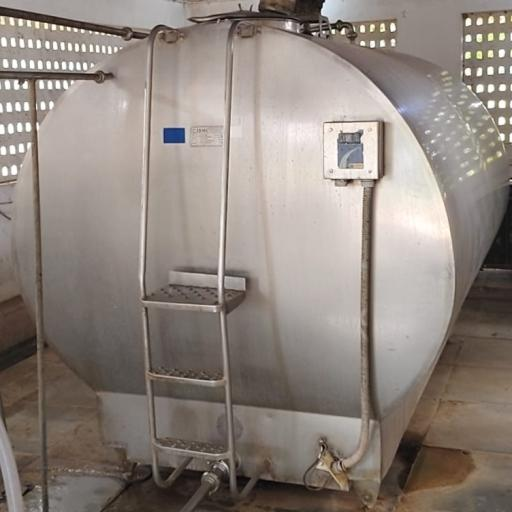silo: (8, 9, 510, 482)
